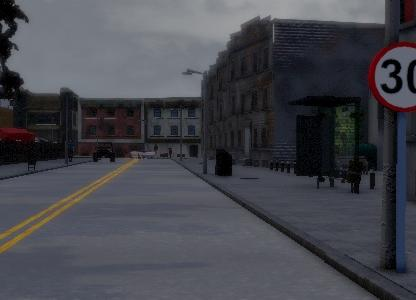Speed_30: (369, 39, 416, 116)
